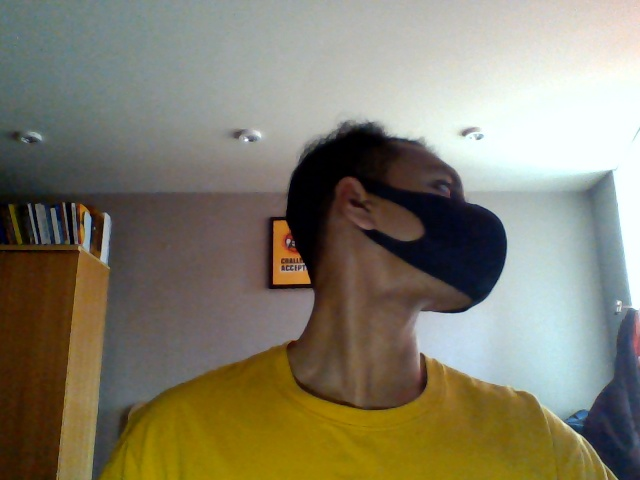mask: (387, 207, 510, 316)
